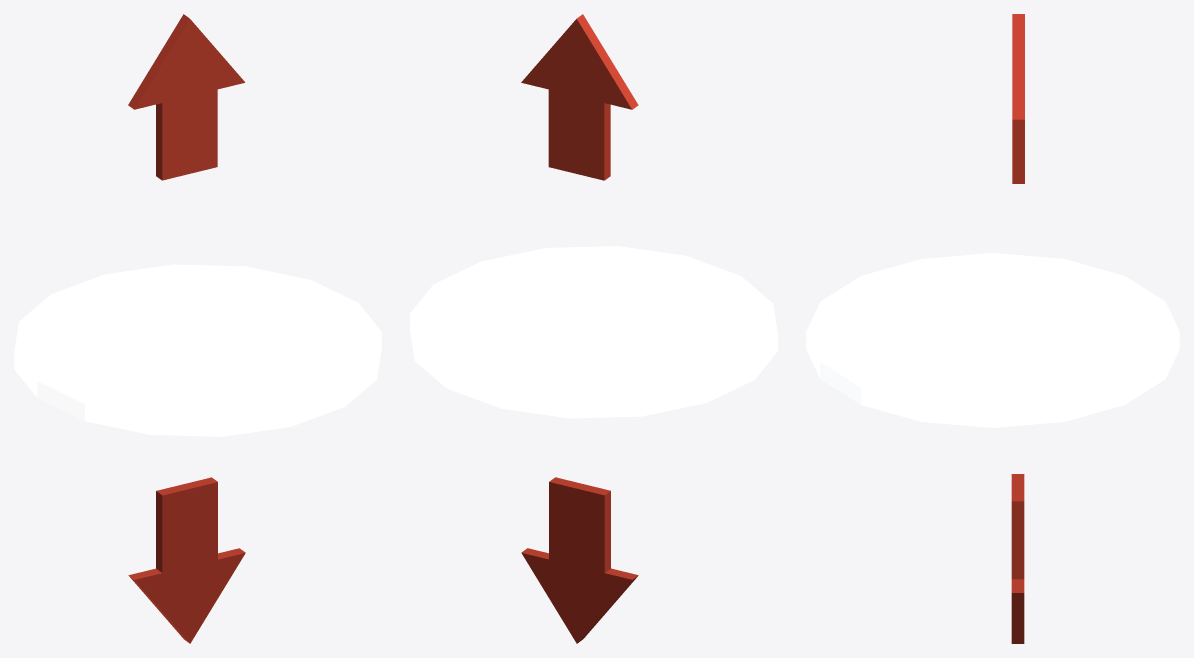
Rendered from Vertical_White_Pad.glb.
The picture shows the model from 3 angles, left to right: view 1: azimuth 30°, elevation 25°; view 2: azimuth 150°, elevation 25°; view 3: azimuth 270°, elevation 25°; orthographic projection.
Visible parts, largest first — view 1: Cylinder.023, Plane, Plane.001; view 2: Cylinder.023, Plane.001, Plane; view 3: Cylinder.023, Plane, Plane.001.
Part boxes in pixels (x1,y1,x2,y2): Cylinder.023: [14, 264, 381, 436]; Plane: [128, 477, 245, 643]; Plane.001: [128, 14, 244, 180]; Cylinder.023: [410, 246, 777, 418]; Plane.001: [521, 14, 638, 180]; Plane: [521, 477, 638, 643]; Cylinder.023: [806, 253, 1179, 427]; Plane: [1011, 474, 1024, 643]; Plane.001: [1012, 14, 1024, 183].
Size of the model in its own units: 2 by 3.72 by 2.
Materials: 2 (1 with a texture image).
